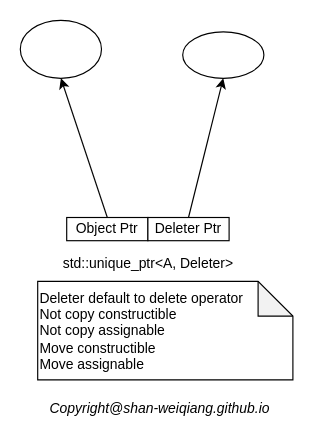
This 313x447 diagram has some shape labels left out. The shapes that lost their labels are listed below. From the top down, each one's centre as x and y in pixels, then its label:
point 60,48: Object (of type A)
point 223,54: Customer Deleter
